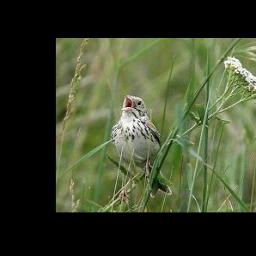Sparrow: (110, 94, 172, 200)
